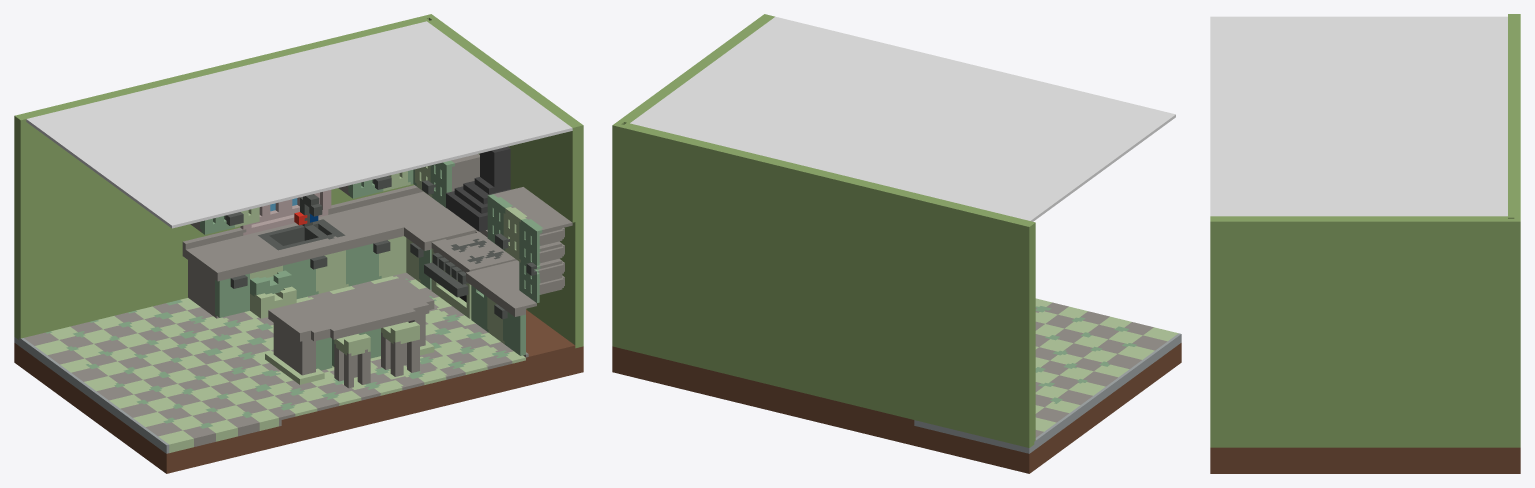
The model's file is kitchen_119x63x200_26_colors-0.obj.
3 views of the same model, side by side, from view 1: azimuth 30°, elevation 25°; view 2: azimuth 150°, elevation 25°; view 3: azimuth 270°, elevation 25° (orthographic). The views are drawn at different scales.
Bounding box in the file's own units: 15.2 × 8.6 × 9.6.
Materials: 1 (1 with a texture image).
